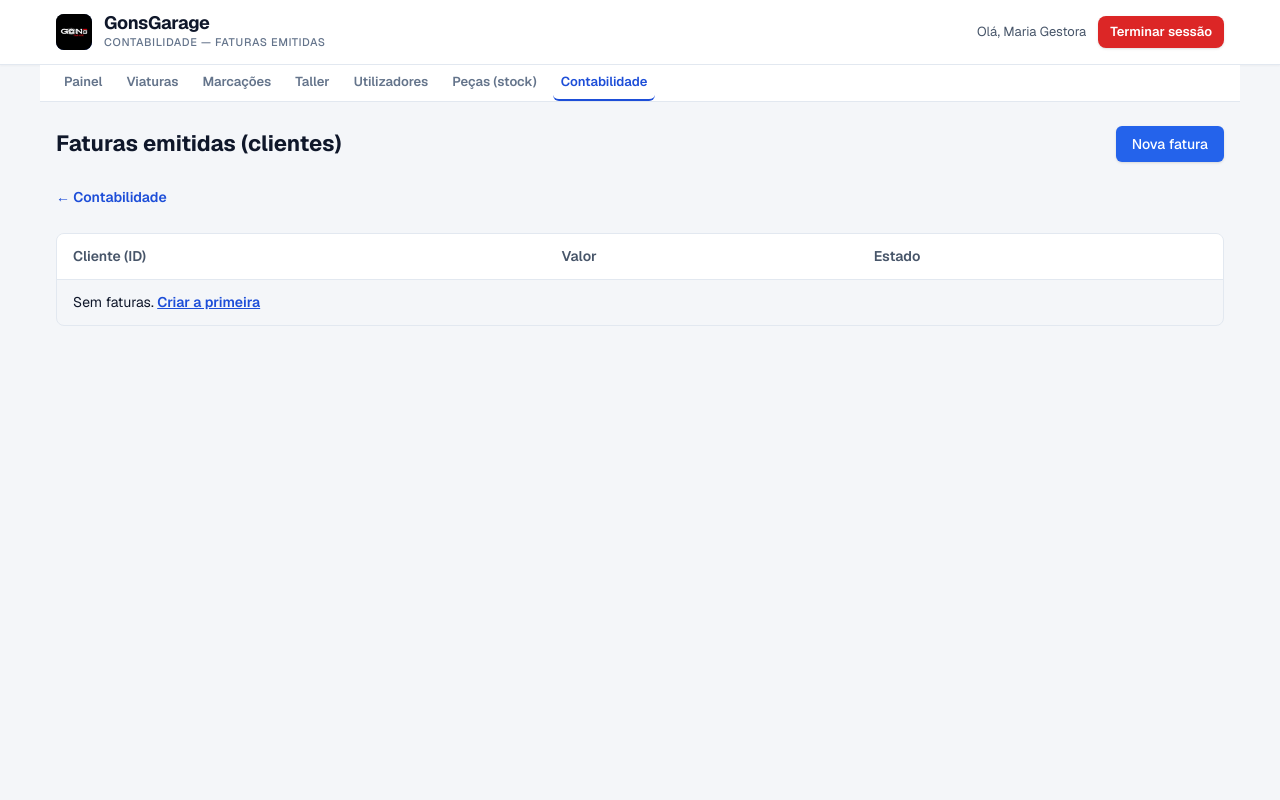
Test: IssuedInvoicesStaffListPage create modal › opens the create dialog from the empty-state CTA
The width and height of the screenshot is (1280, 800).
Click the button "Criar a primeira" at {"x": 209, "y": 302}, box left=157, top=292, right=260, bottom=312
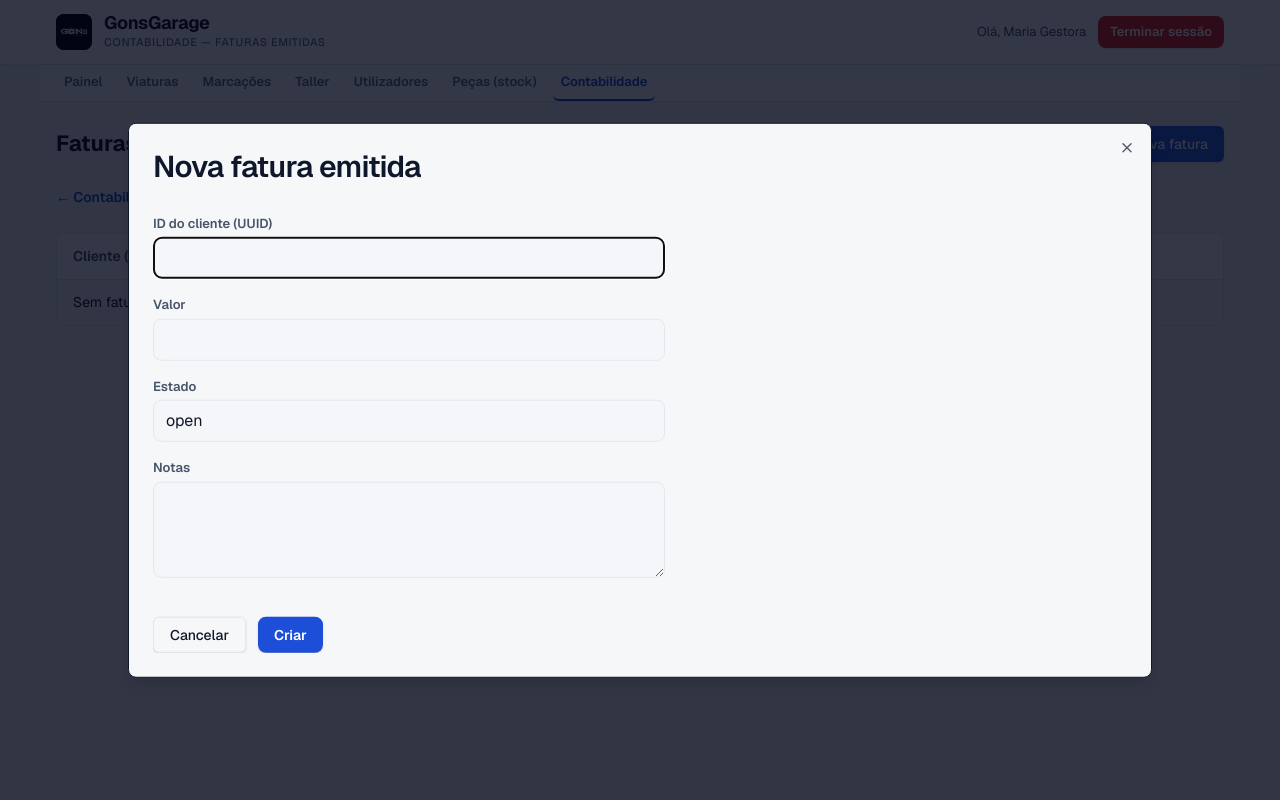
Check: the dialog is shown, box left=128, top=123, right=1152, bottom=677
